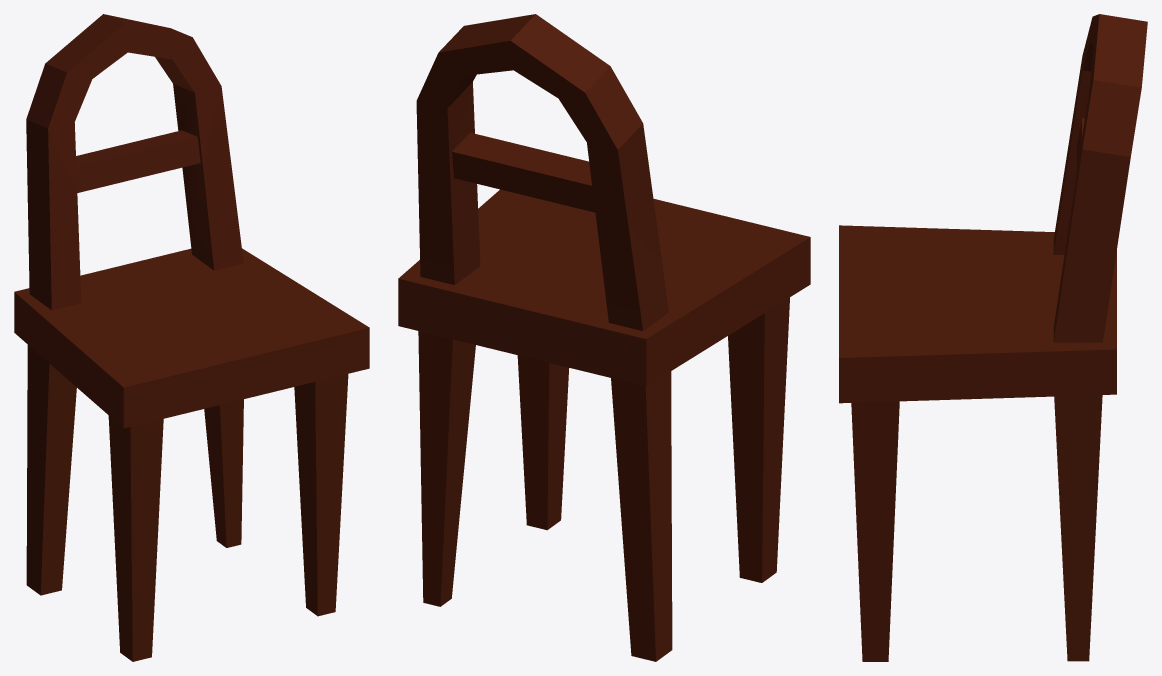
File: chair_02.FBX
The picture shows the model from 3 angles, left to right: view 1: azimuth 30°, elevation 25°; view 2: azimuth 150°, elevation 25°; view 3: azimuth 270°, elevation 25°; orthographic projection. The views are drawn at different scales.
Parts seen in each view (by area): view 1: Box007; view 2: Box007; view 3: Box007.
Part boxes in pixels (x1,y1,x2,y2): Box007: (14,14,369,661); Box007: (398,14,810,661); Box007: (839,14,1147,661).
Bounding box in the file's own units: 32.11 × 66.83 × 31.57.
